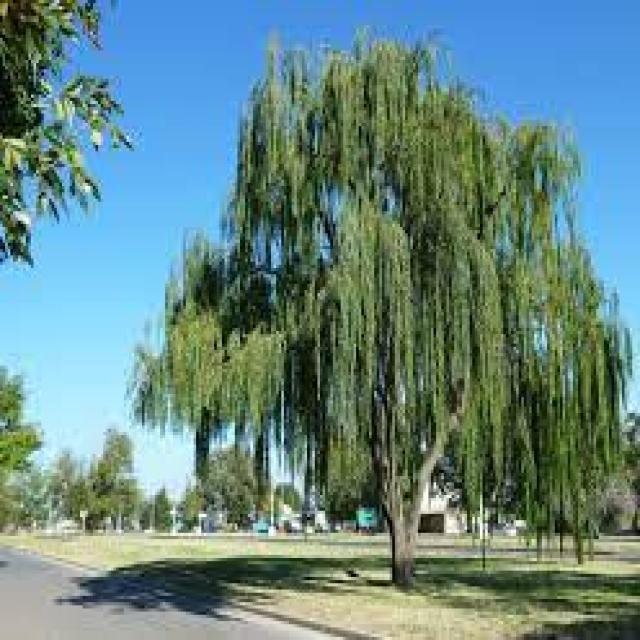cauce: (118, 31, 634, 581)
